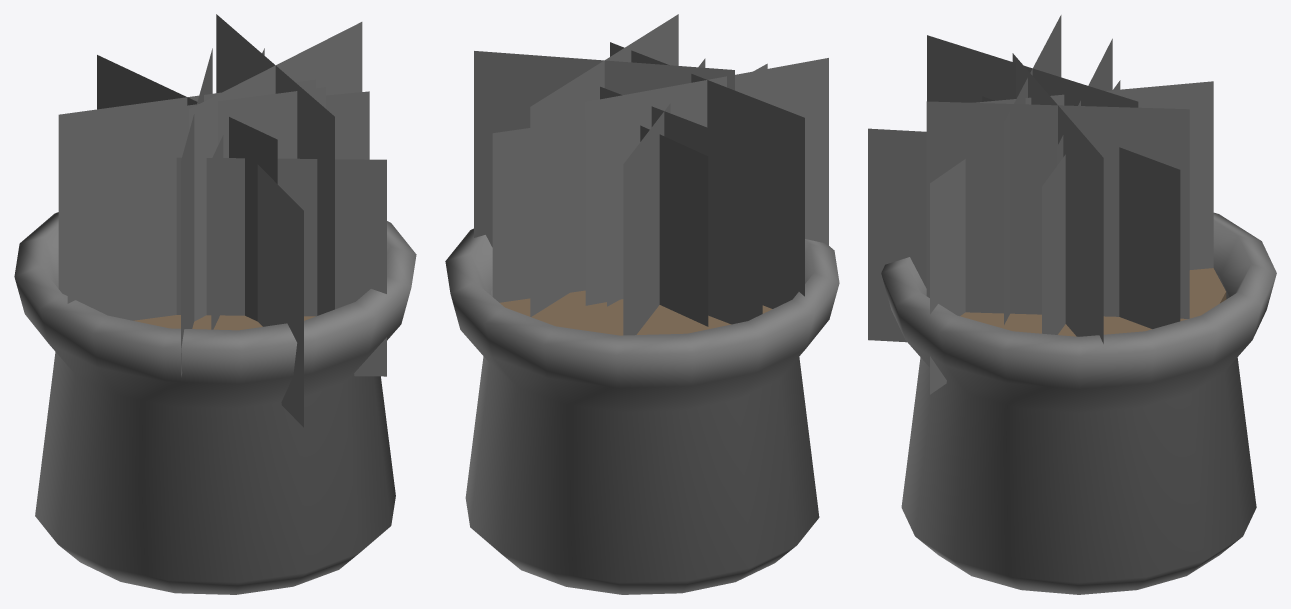
The model's file is planter-large.glb.
3 renders of one model, left to right at view 1: azimuth 30°, elevation 25°; view 2: azimuth 150°, elevation 25°; view 3: azimuth 270°, elevation 25°, orthographic. The views are drawn at different scales.
Visible parts, largest first — view 1: pot, leafcard.001, leafcard.004, leafcard.005, leafcard.006, leafcard.003, leafcard.007, leafcard.002, leafcard.008, leafcard.009, leafcard, soil; view 2: pot, leafcard.002, leafcard.008, leafcard.006, leafcard.001, leafcard.005, leafcard, leafcard.009, leafcard.007, soil, leafcard.003; view 3: pot, leafcard.006, leafcard, leafcard.003, leafcard.005, leafcard.002, leafcard.007, leafcard.004, leafcard.009, soil, leafcard.001, leafcard.008.
Boxes of the visible parts, x1=… form: pot: x1=14, y1=212, x2=416, y2=594; leafcard.001: x1=67, y1=87, x2=325, y2=320; leafcard.004: x1=176, y1=157, x2=386, y2=376; leafcard.005: x1=189, y1=22, x2=362, y2=321; leafcard.006: x1=216, y1=14, x2=334, y2=315; leafcard.003: x1=257, y1=164, x2=303, y2=427; leafcard.007: x1=97, y1=55, x2=277, y2=321; leafcard.002: x1=181, y1=48, x2=212, y2=376; leafcard.008: x1=58, y1=79, x2=315, y2=295; leafcard.009: x1=326, y1=91, x2=369, y2=159; leafcard: x1=211, y1=48, x2=264, y2=329; soil: x1=133, y1=315, x2=315, y2=330; pot: x1=445, y1=228, x2=839, y2=594; leafcard.002: x1=585, y1=58, x2=828, y2=305; leafcard.008: x1=600, y1=86, x2=762, y2=324; leafcard.006: x1=530, y1=14, x2=678, y2=316; leafcard.001: x1=610, y1=42, x2=804, y2=308; leafcard.005: x1=474, y1=51, x2=734, y2=247; leafcard: x1=492, y1=120, x2=585, y2=302; leafcard.009: x1=640, y1=125, x2=708, y2=326; leafcard.007: x1=623, y1=58, x2=705, y2=335; soil: x1=499, y1=290, x2=772, y2=335; leafcard.003: x1=607, y1=63, x2=767, y2=306; pot: x1=881, y1=212, x2=1276, y2=594; leafcard.006: x1=926, y1=101, x2=1189, y2=318; leafcard: x1=982, y1=96, x2=1180, y2=328; leafcard.003: x1=868, y1=128, x2=926, y2=342; leafcard.005: x1=1012, y1=53, x2=1103, y2=343; leafcard.002: x1=927, y1=35, x2=1138, y2=107; leafcard.007: x1=973, y1=81, x2=1213, y2=269; leafcard.004: x1=930, y1=159, x2=965, y2=394; leafcard.009: x1=1042, y1=80, x2=1120, y2=334; soil: x1=960, y1=268, x2=1226, y2=336; leafcard.001: x1=1004, y1=15, x2=1061, y2=324; leafcard.008: x1=1057, y1=38, x2=1112, y2=165.
Bounding box in the file's own units: 0.78 × 0.9761 × 0.8059.
Materials: 5 (4 with a texture image).
